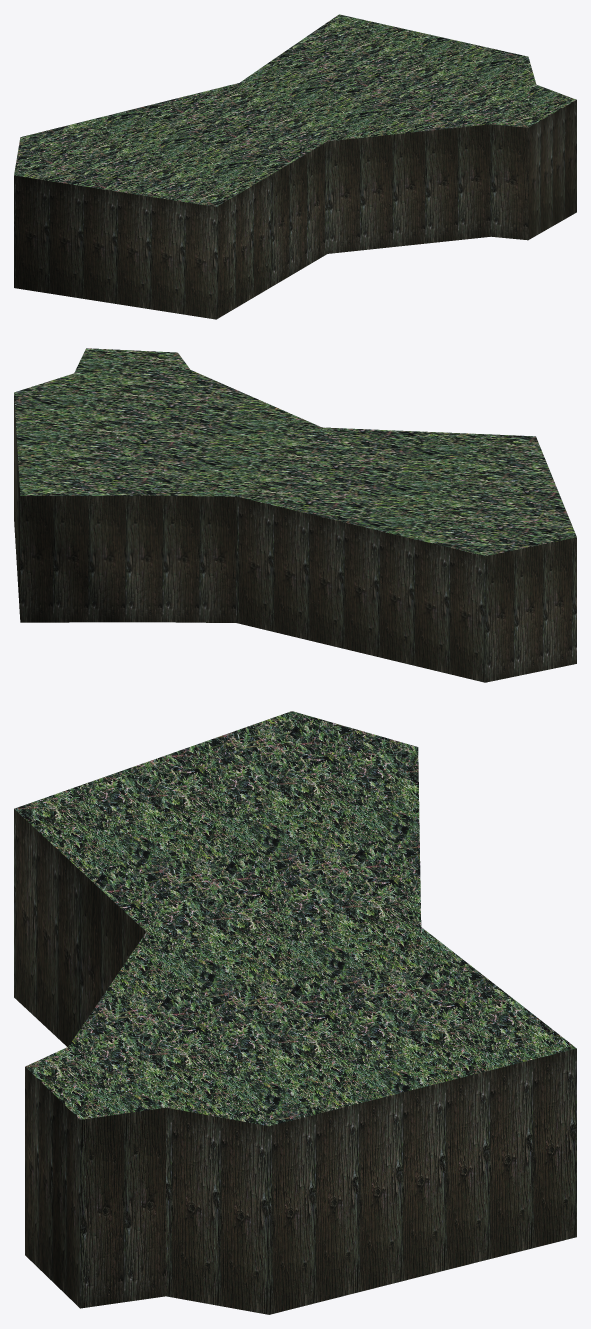
The model's file is Map Design.glb.
The picture shows the model from 3 angles, top to bottom: view 1: azimuth 30°, elevation 25°; view 2: azimuth 150°, elevation 25°; view 3: azimuth 270°, elevation 25°; orthographic projection. The views are drawn at different scales.
Visible parts, largest first — view 1: Walls; view 2: Walls; view 3: Walls.
Part boxes in pixels (<box>): Walls: <box>14,14,576,319</box>; Walls: <box>14,348,576,682</box>; Walls: <box>14,711,576,1314</box>.
Bounding box in the file's own units: 33.04 × 7.07 × 18.93.
Materials: 3 (3 with a texture image).
